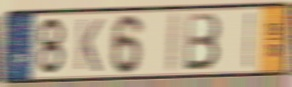6: (111, 13, 144, 76)
8: (36, 15, 68, 78)
B: (183, 11, 222, 73)
I: (163, 10, 181, 76), (243, 10, 255, 71)
K: (74, 17, 105, 74)
